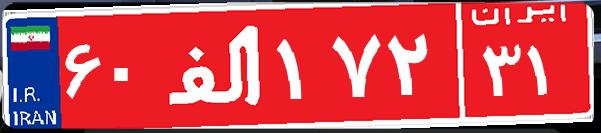0: (110, 28, 158, 105)
1: (273, 28, 330, 110), (525, 38, 570, 115)
2: (385, 28, 445, 110)
3: (475, 38, 525, 113)
6: (57, 26, 110, 107)
7: (330, 28, 385, 110)
الف: (158, 15, 273, 115)
